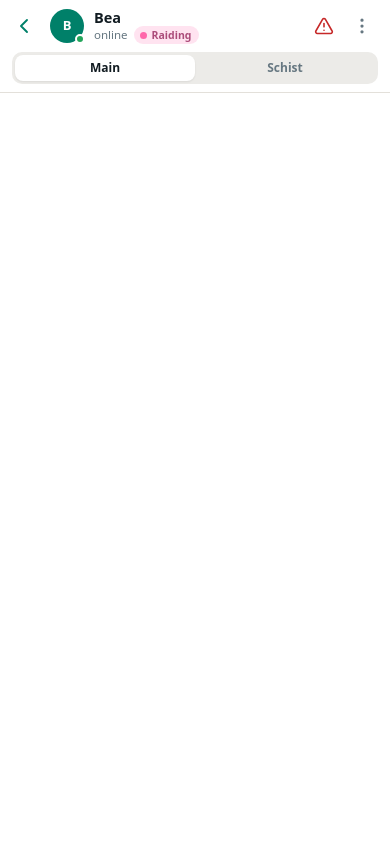
Test case: ChatHeader › tapping the name opens the partner's card with the pill and status message
Click the button "Bea": {"x": 108, "y": 17} top-left (94, 8), bottom-right (121, 26)
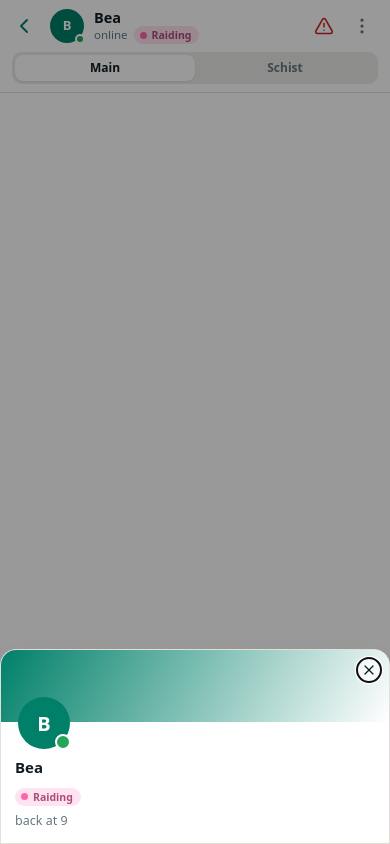
Expected: the text "Raiding" is shown, top-left (33, 790), bottom-right (73, 804)
Expected: the text "back at 9" is shown, top-left (15, 812), bottom-right (68, 829)
Click the button named "Close": {"x": 369, "y": 670} top-left (357, 658), bottom-right (381, 682)
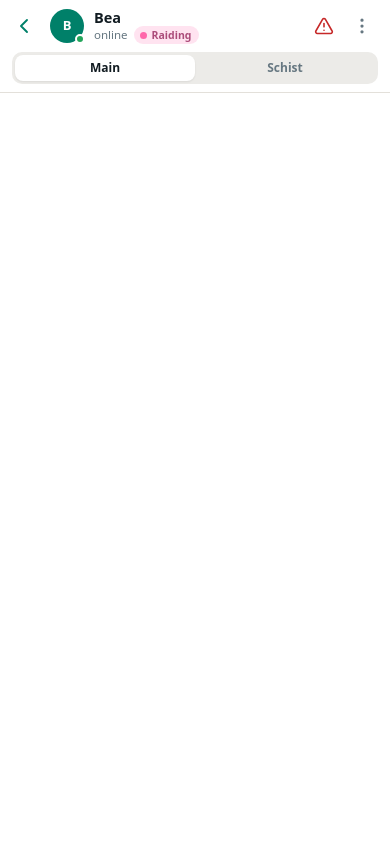
Expected: the dialog is gone
